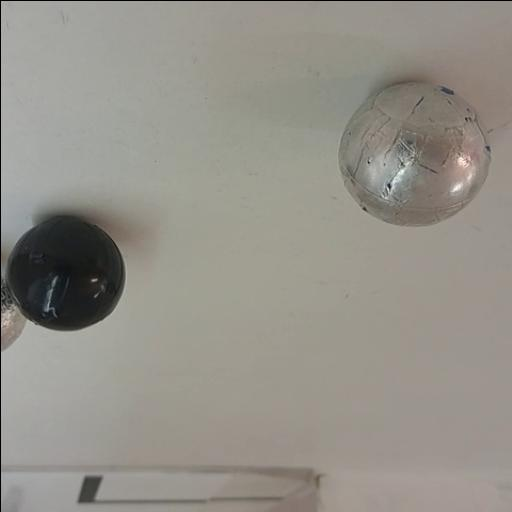alive: (334, 78, 494, 229), (0, 267, 27, 356)
dead: (5, 214, 128, 332)
